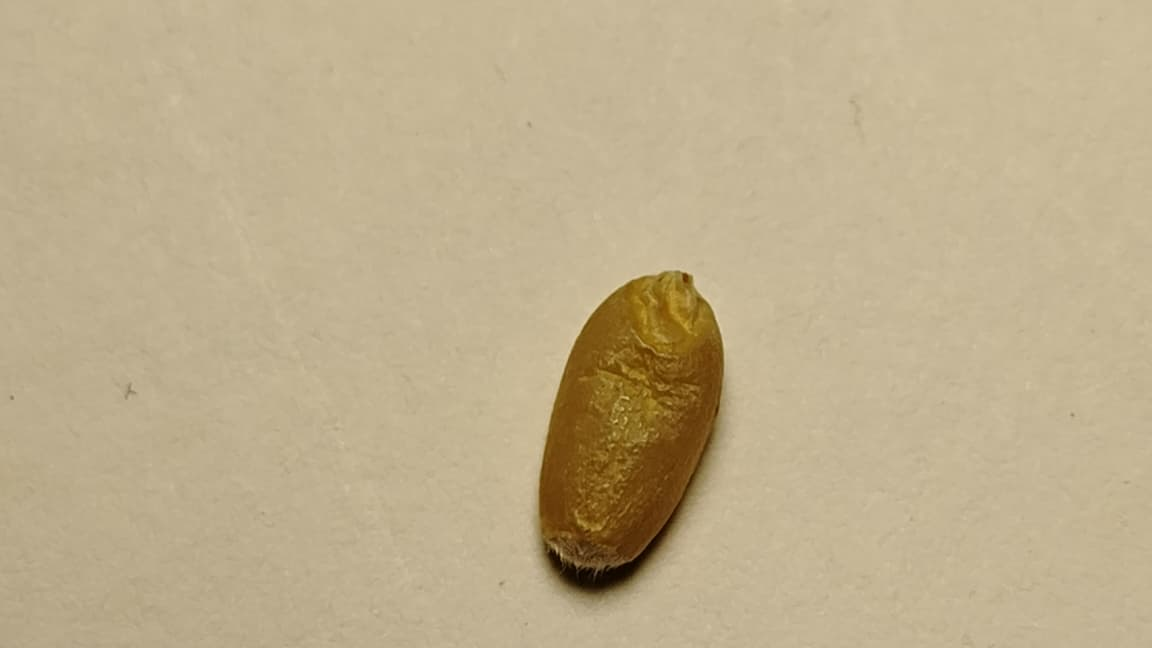healthy: (540, 271, 719, 569)
